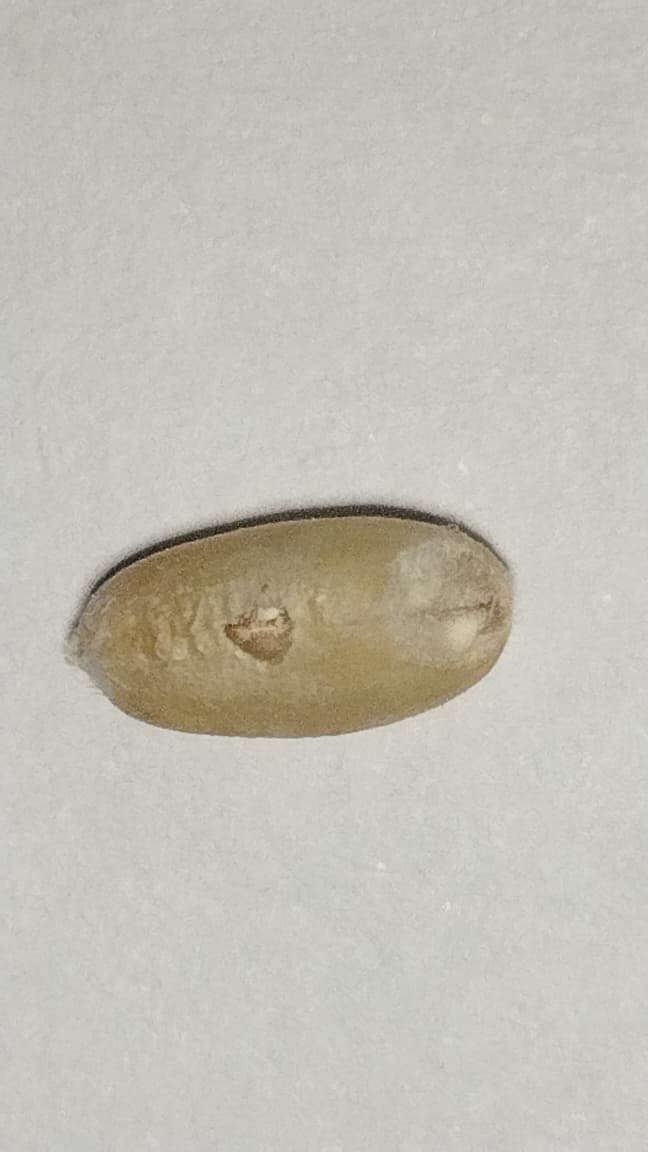damage: (93, 512, 509, 739)
insectdamage: (220, 585, 292, 671)
